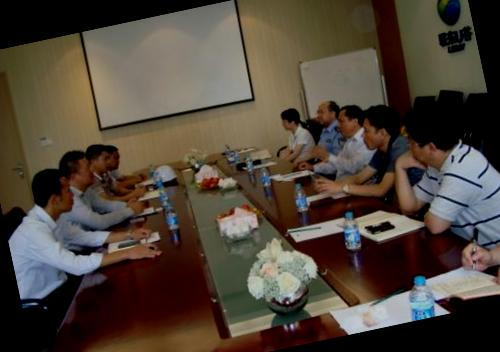no_helmet: (398, 98, 466, 170), (27, 163, 77, 223), (358, 100, 406, 156), (56, 145, 98, 194), (336, 102, 369, 140), (310, 96, 343, 129), (86, 140, 114, 178), (278, 105, 307, 136), (106, 142, 126, 173)
